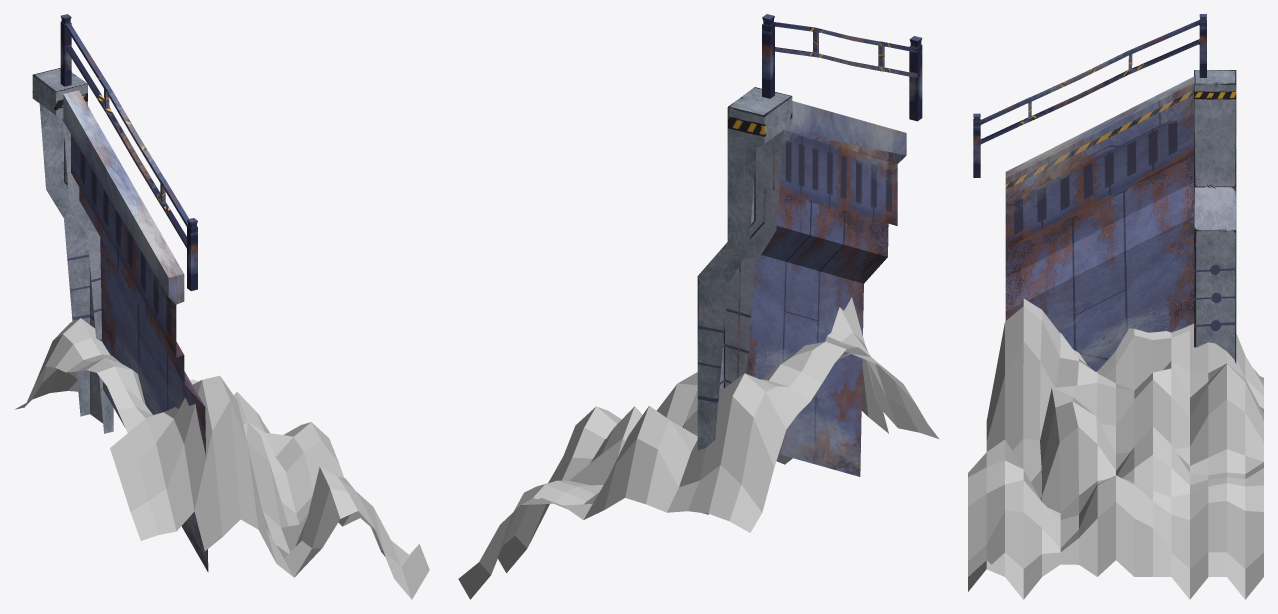
File: MurCompletPente.fbx
The picture shows the model from 3 angles, left to right: view 1: azimuth 30°, elevation 25°; view 2: azimuth 150°, elevation 25°; view 3: azimuth 270°, elevation 25°; orthographic projection. The views are drawn at different scales.
Visible parts, largest first — view 1: Plane.002, Cube.137, Cube.136, Cube.135; view 2: Plane.002, Cube.137, Cube.136, Cube.135; view 3: Plane.002, Cube.137, Cube.136, Cube.135.
Part boxes in pixels (left/top/right/bottom): Plane.002: left=15, top=318, right=429, bottom=599; Cube.137: left=62, top=90, right=208, bottom=572; Cube.136: left=32, top=68, right=113, bottom=433; Cube.135: left=60, top=14, right=197, bottom=290; Plane.002: left=458, top=297, right=939, bottom=599; Cube.137: left=737, top=101, right=906, bottom=476; Cube.136: left=697, top=87, right=792, bottom=514; Cube.135: left=762, top=14, right=922, bottom=121; Plane.002: left=968, top=298, right=1263, bottom=599; Cube.137: left=1005, top=76, right=1193, bottom=371; Cube.136: left=1194, top=70, right=1236, bottom=363; Cube.135: left=973, top=14, right=1206, bottom=177.
Bounding box in the file's own units: 1160 × 2229 × 1237.
